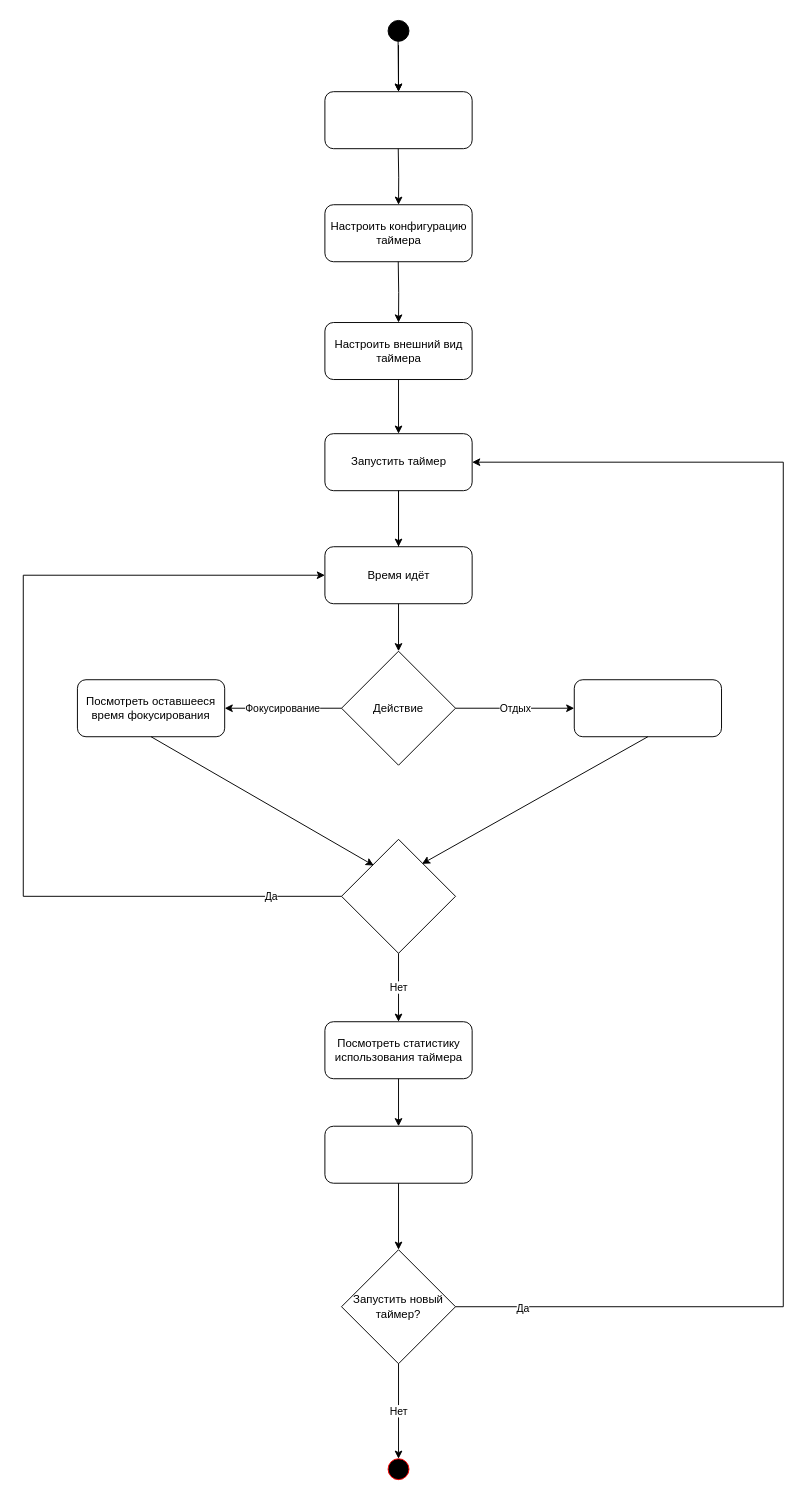
The diagram is 808 pixels wide and 1500 high, and some of its shapes have lost their labels. The shapes that lost their labels are listed below. From the top down, each one's centre as x and y in pixels, then its label:
At (398,120): "Открыть главный экран".
At (647,708): "Посмотреть оставшееся время отдыха".
At (398,895): "Таймер работает?".
At (398,1154): "Посмотреть список достижений".
